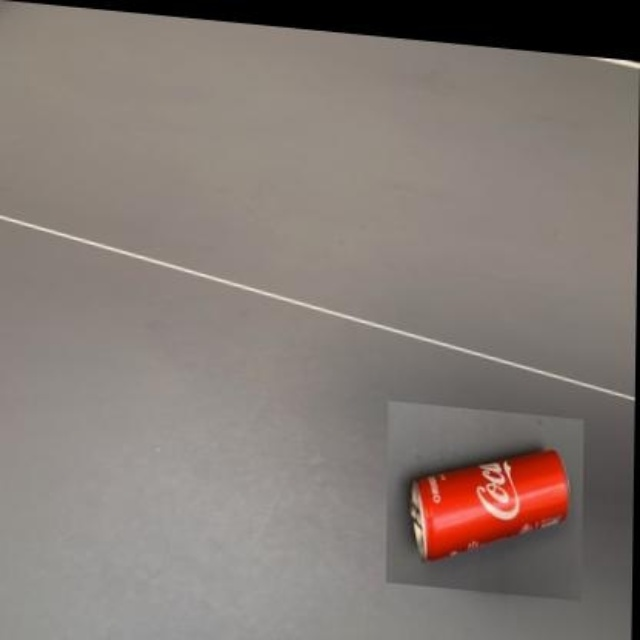trash: (409, 449, 566, 560)
